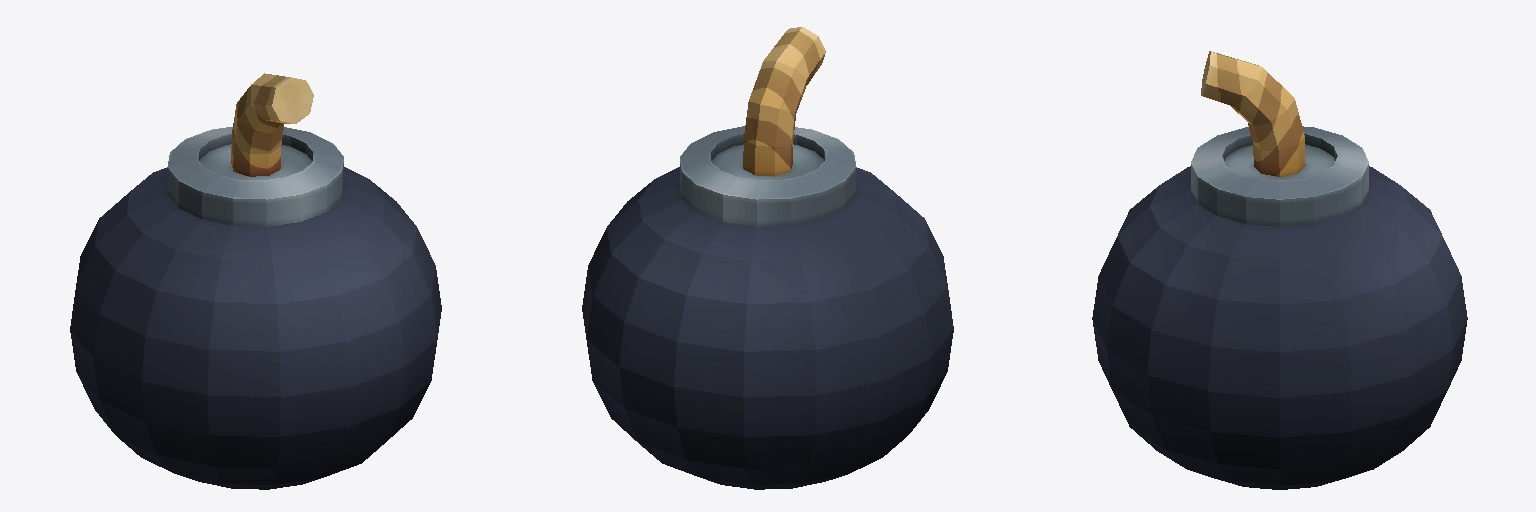
The picture shows the model from 3 angles: view 1: azimuth 30°, elevation 25°; view 2: azimuth 150°, elevation 25°; view 3: azimuth 270°, elevation 25°; orthographic projection.
Visible parts, largest first — view 1: Bomb_Default_Scene; view 2: Bomb_Default_Scene; view 3: Bomb_Default_Scene.
Boxes of the visible parts, x1,y1,x2,y2 form: Bomb_Default_Scene: [70, 73, 441, 489]; Bomb_Default_Scene: [582, 27, 953, 489]; Bomb_Default_Scene: [1092, 51, 1467, 489].
Size of the model in its own units: 1.5 by 1.79 by 1.5.
Materials: 1 (1 with a texture image).